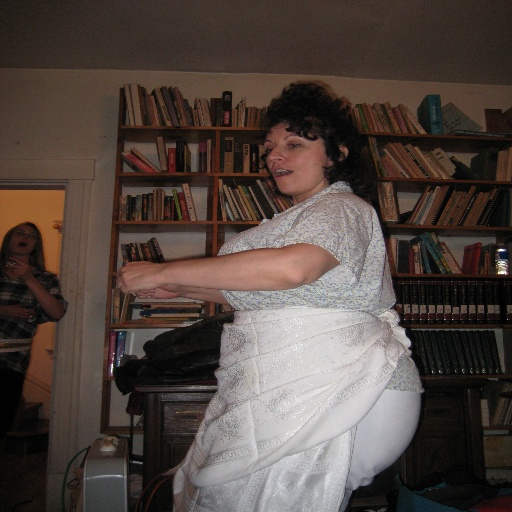hand: (112, 249, 182, 296), (135, 282, 180, 299), (6, 255, 33, 280), (0, 304, 37, 321)
